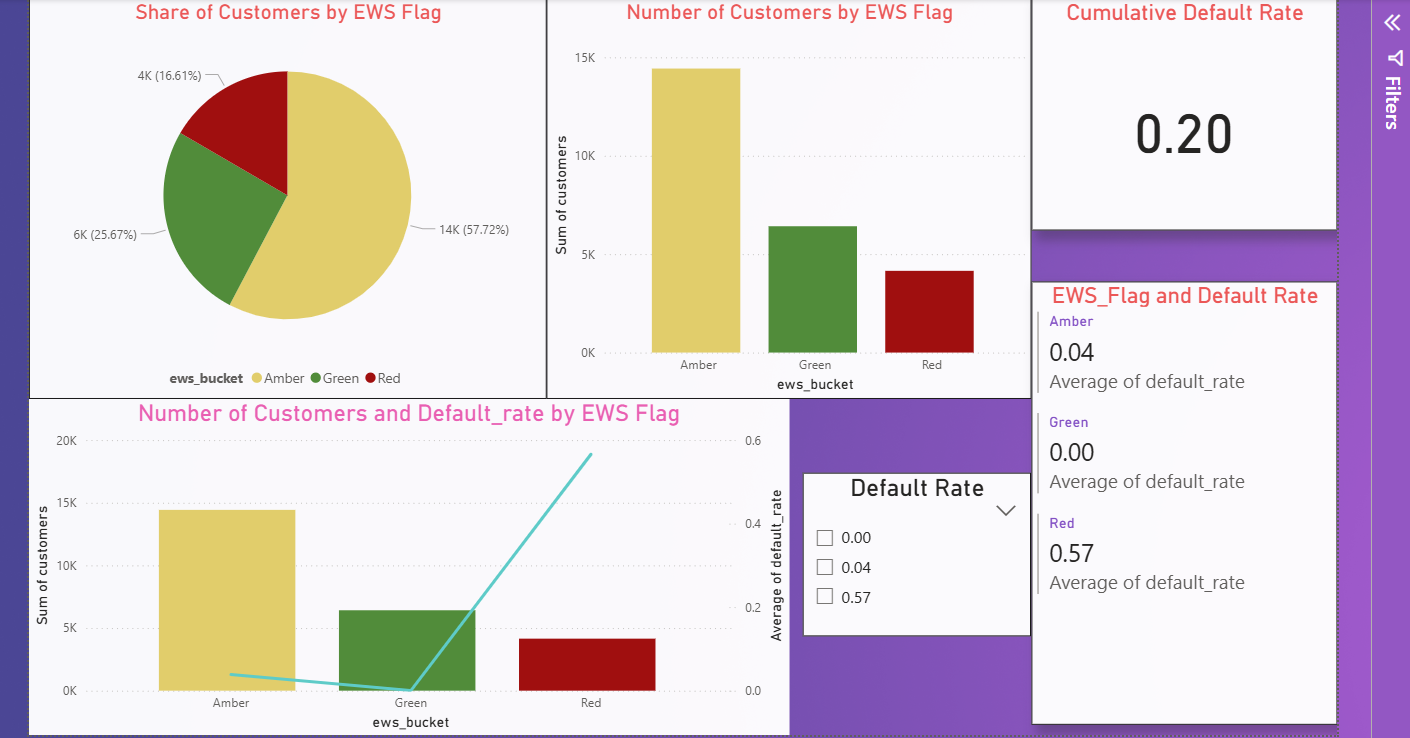

What the dashboard file says about the page in this screenshot:
{"tool":"powerbi","page":{"name":"Risk Warning overview","canvas":[1280,720],"ordinal":0},"visuals":[{"type":"clusteredColumnChart","title":"Number of Customers by EWS Flag","fields":{"Category":["Query4.ews_bucket"],"Y":["Sum(Query4.customers)"]},"box":[506.3,0,474.8,391.1],"z":0},{"type":"pieChart","title":"Share of Customers by EWS Flag","fields":{"Y":["Sum(Query4.customers)"],"Category":["Query4.ews_bucket"]},"box":[0,0,506.3,391.1],"z":1000},{"type":"card","title":"Cumulative Default Rate","fields":{"Values":["Avg(Query4.default_rate)"]},"box":[981.1,0,299.1,226.4],"z":2000},{"type":"multiRowCard","title":"EWS_Flag and Default Rate","fields":{"Values":["Query4.ews_bucket","Query4.default_rate"]},"box":[981.1,275.8,299.1,433.6],"z":3000},{"type":"lineClusteredColumnComboChart","title":"Number of Customers and Default_rate by EWS Flag","fields":{"Category":["Query4.ews_bucket"],"Y":["Sum(Query4.customers)"],"Y2":["Avg(Query4.default_rate)"]},"box":[0,391.1,743.7,329.3],"z":4000},{"type":"slicer","title":"Default Rate","fields":{"Values":["Query4.default_rate"]},"box":[757.1,462.9,222.9,160],"z":5000}]}

Visuals, with their boxes in screenshot pixels (x1, y1, x2, y2):
"Number of Customers by EWS Flag" clusteredColumnChart: 549,0,1029,395
"Share of Customers by EWS Flag" pieChart: 37,0,549,395
"Cumulative Default Rate" card: 1029,0,1331,229
"EWS_Flag and Default Rate" multiRowCard: 1029,279,1331,717
"Number of Customers and Default_rate by EWS Flag" lineClusteredColumnComboChart: 37,395,789,728
"Default Rate" slicer: 802,468,1027,630
